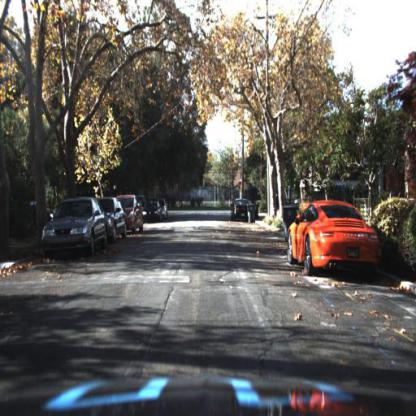car: (288, 201, 380, 280), (40, 193, 111, 253), (98, 199, 127, 243), (108, 193, 127, 251), (120, 194, 145, 232), (126, 188, 144, 239), (143, 198, 164, 226), (232, 198, 252, 222)
